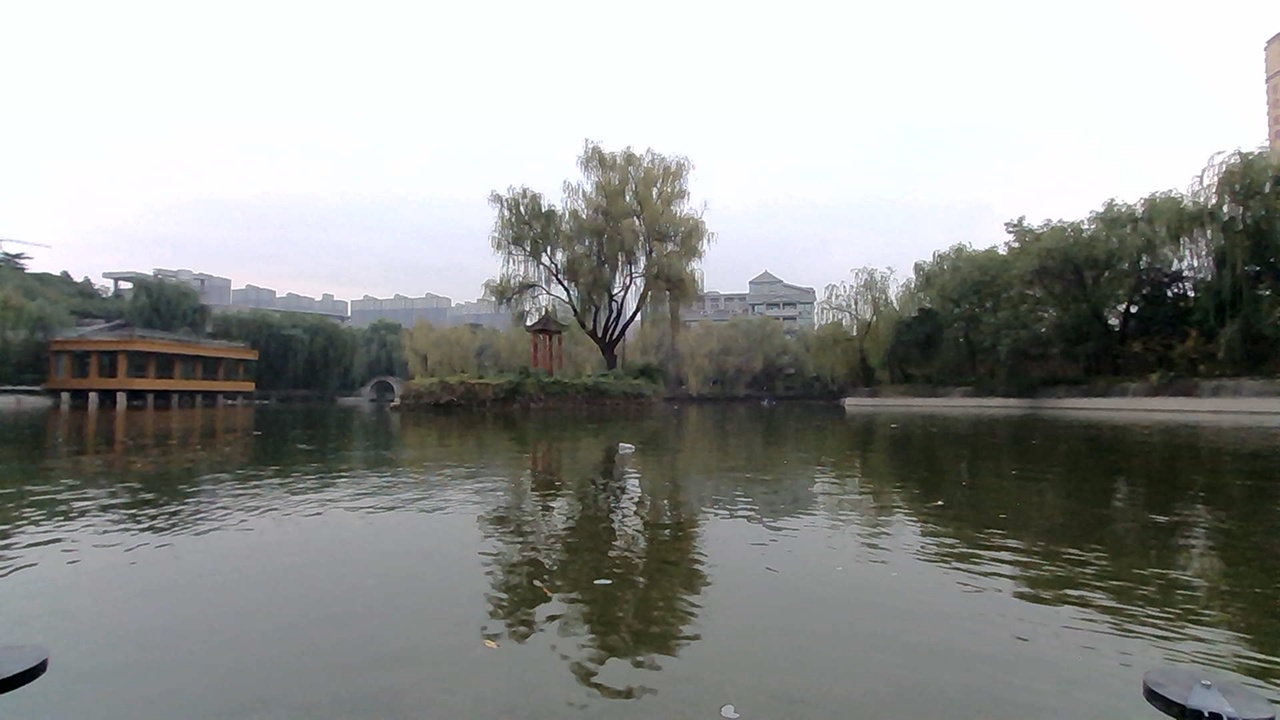bottle: (601, 423, 665, 456)
